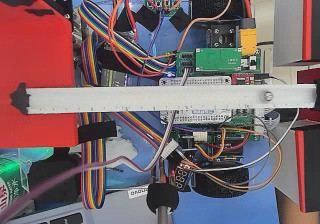ironball: (263, 91, 274, 100)
